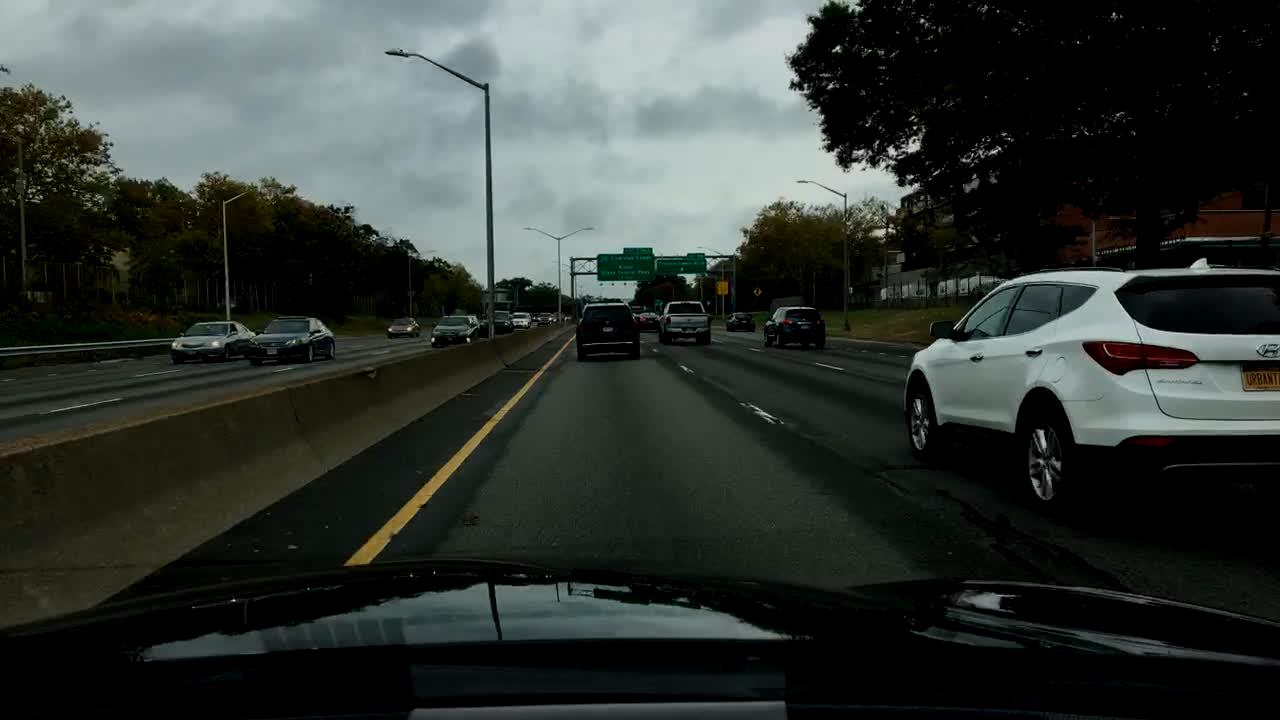Hyundai: (1248, 339, 1280, 362)
